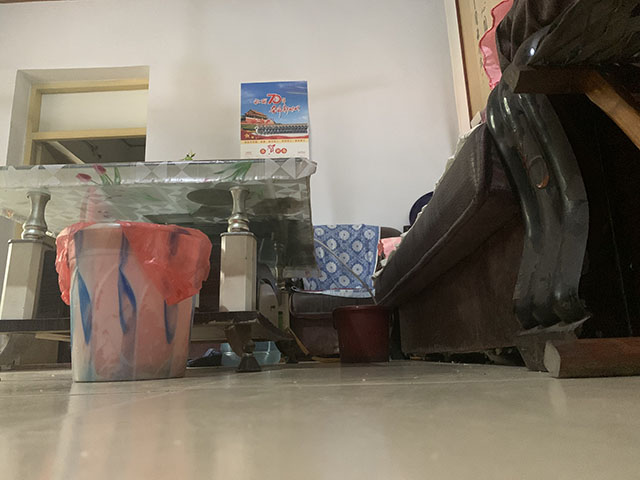sofa: (290, 1, 640, 373)
stool: (501, 1, 640, 381)
table: (1, 157, 323, 374)
trashcan: (54, 220, 212, 384), (330, 303, 392, 366)
